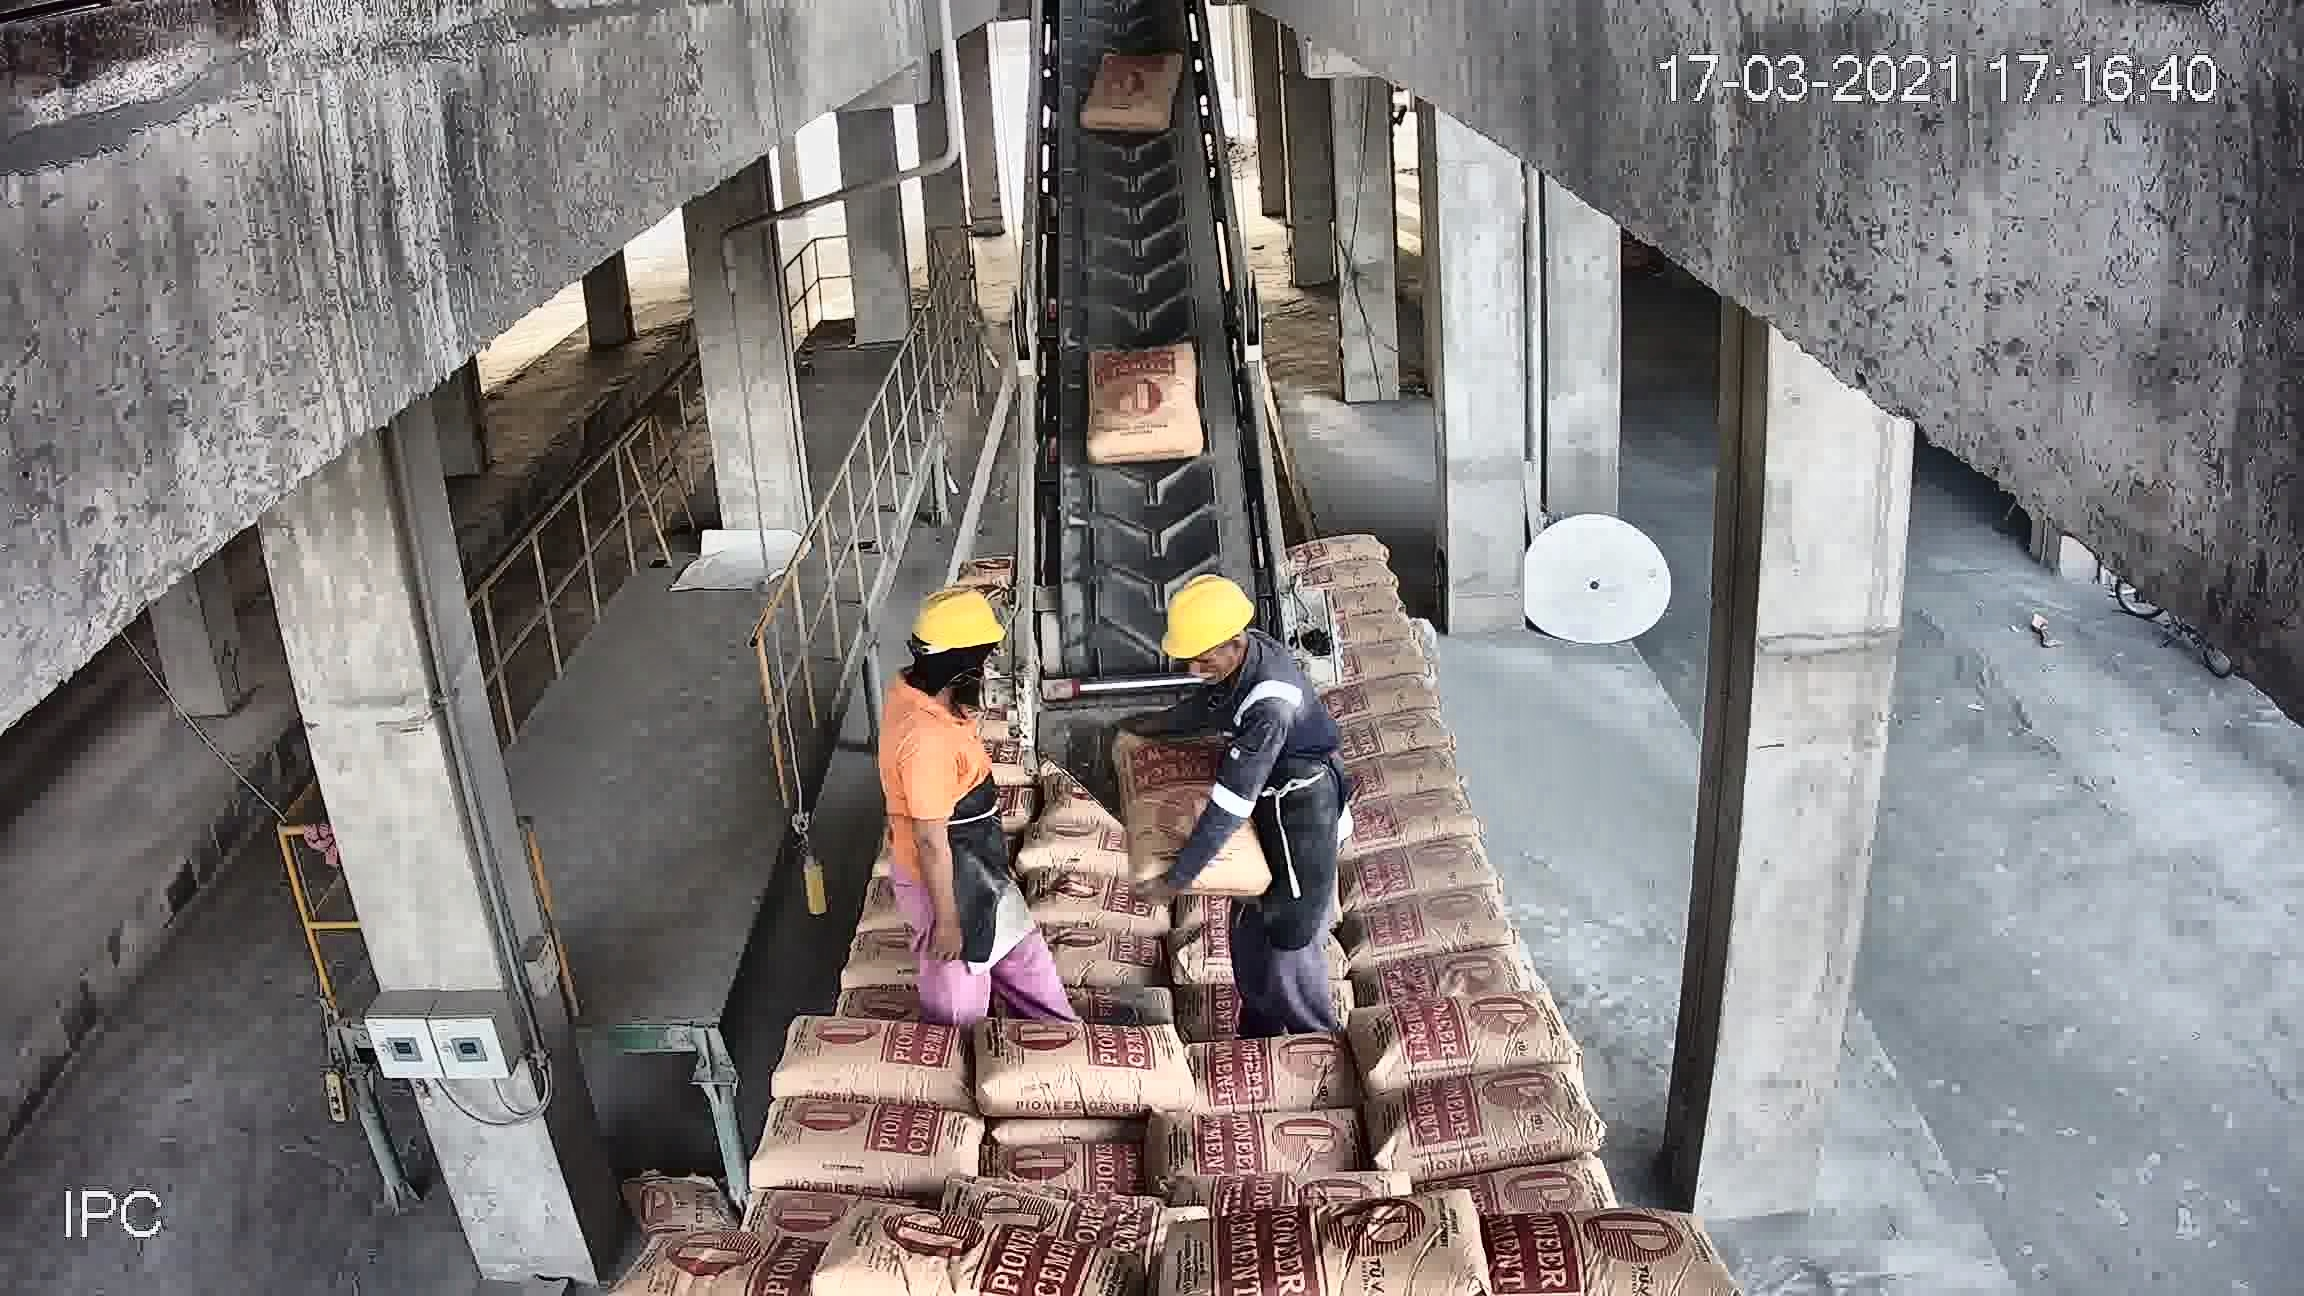bag: (1078, 342, 1203, 460), (1082, 49, 1185, 139)
bag_h: (1188, 1177, 1529, 1294), (1435, 1196, 1715, 1294), (801, 1218, 1124, 1294), (747, 1101, 994, 1199), (1374, 1078, 1586, 1192), (994, 1010, 1190, 1131), (1350, 997, 1578, 1093), (1150, 1103, 1377, 1198), (767, 1022, 975, 1106), (1161, 1033, 1358, 1116), (1342, 877, 1510, 972), (635, 1228, 843, 1294), (1362, 940, 1532, 1013), (1329, 832, 1499, 904), (989, 1143, 1157, 1199), (1016, 853, 1125, 937), (1337, 790, 1476, 855), (1044, 926, 1166, 995), (1339, 737, 1454, 805), (1315, 661, 1429, 723), (1324, 706, 1445, 760), (829, 972, 935, 1027), (1302, 557, 1404, 597), (1290, 533, 1397, 570)
bag_v: (1119, 726, 1272, 897)
belt: (994, 2, 1291, 756)
